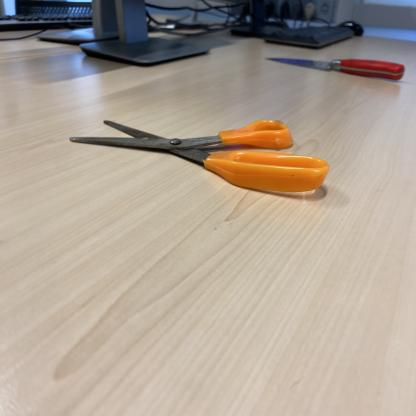Knife: (265, 55, 407, 82)
scissors: (69, 118, 330, 193)
